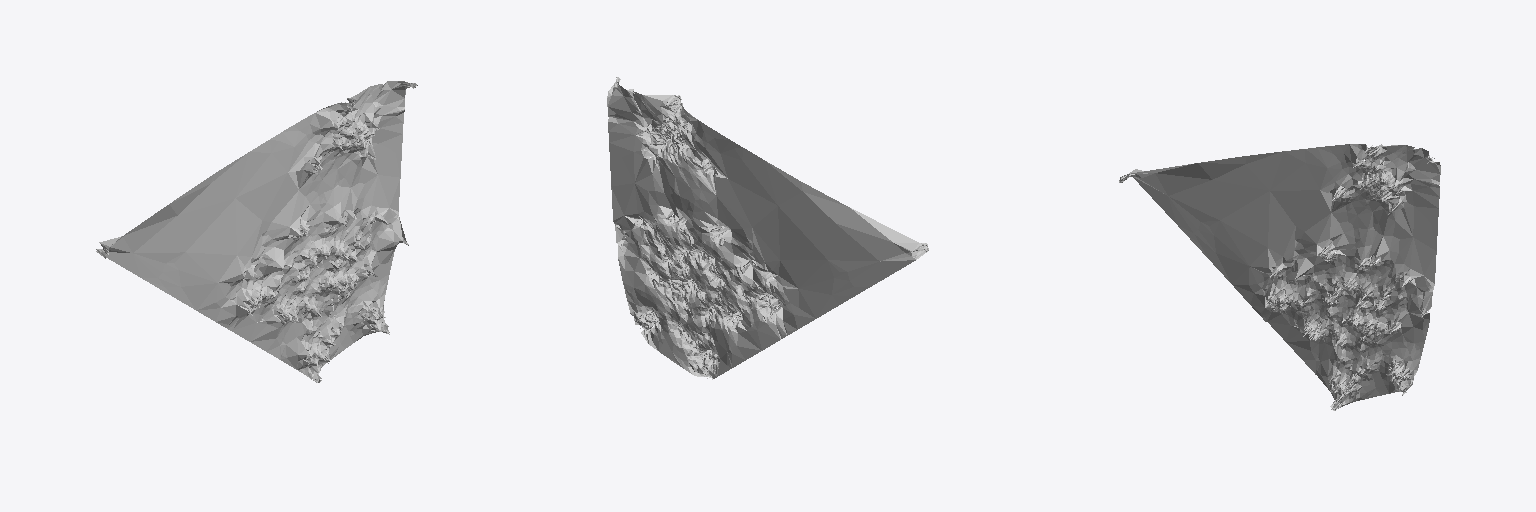
Rendered from 'umap2_island.obj.
3 renders of one model, left to right at view 1: azimuth 30°, elevation 25°; view 2: azimuth 150°, elevation 25°; view 3: azimuth 330°, elevation 25°, orthographic.
Parts seen in each view (by area): view 1: grp1; view 2: grp1; view 3: grp1.
Part boxes in pixels (left/top/right/bottom): grp1: left=96, top=81, right=417, bottom=382; grp1: left=607, top=77, right=928, bottom=379; grp1: left=1119, top=144, right=1440, bottom=410.
Bounding box in the file's own units: 16.25 × 13.75 × 1.12.